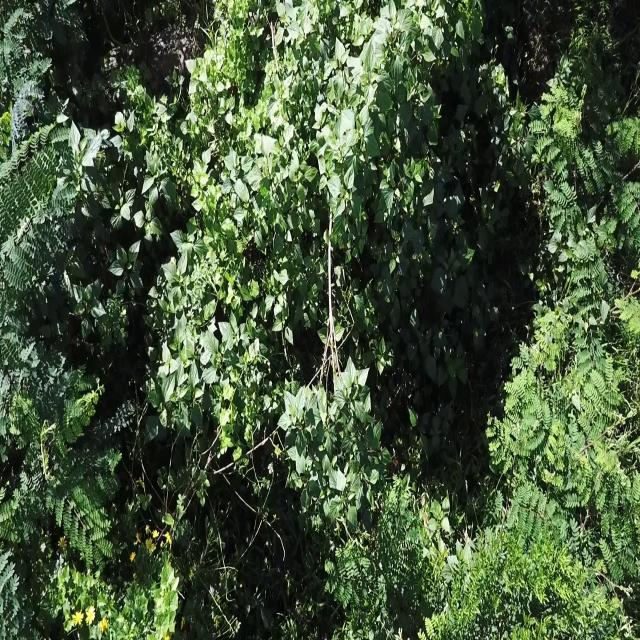Mysore-Thorn-Weed: (486, 306, 640, 591), (0, 338, 123, 575), (531, 72, 640, 303), (328, 468, 444, 640), (0, 137, 76, 330), (0, 529, 52, 640), (0, 0, 56, 99)
